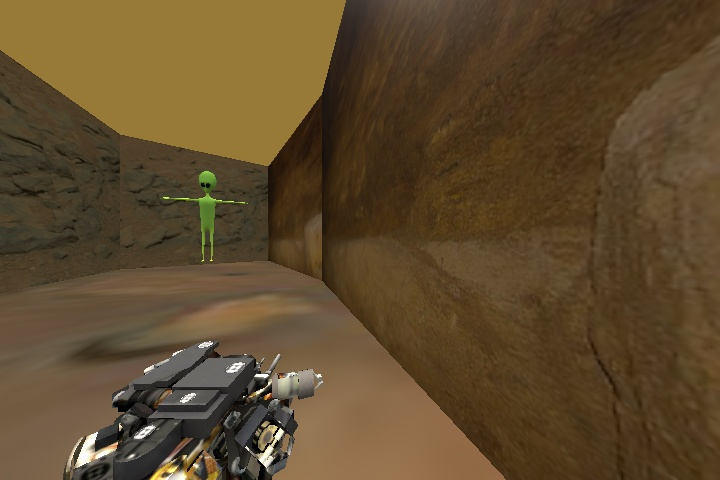alien: (162, 168, 248, 263)
